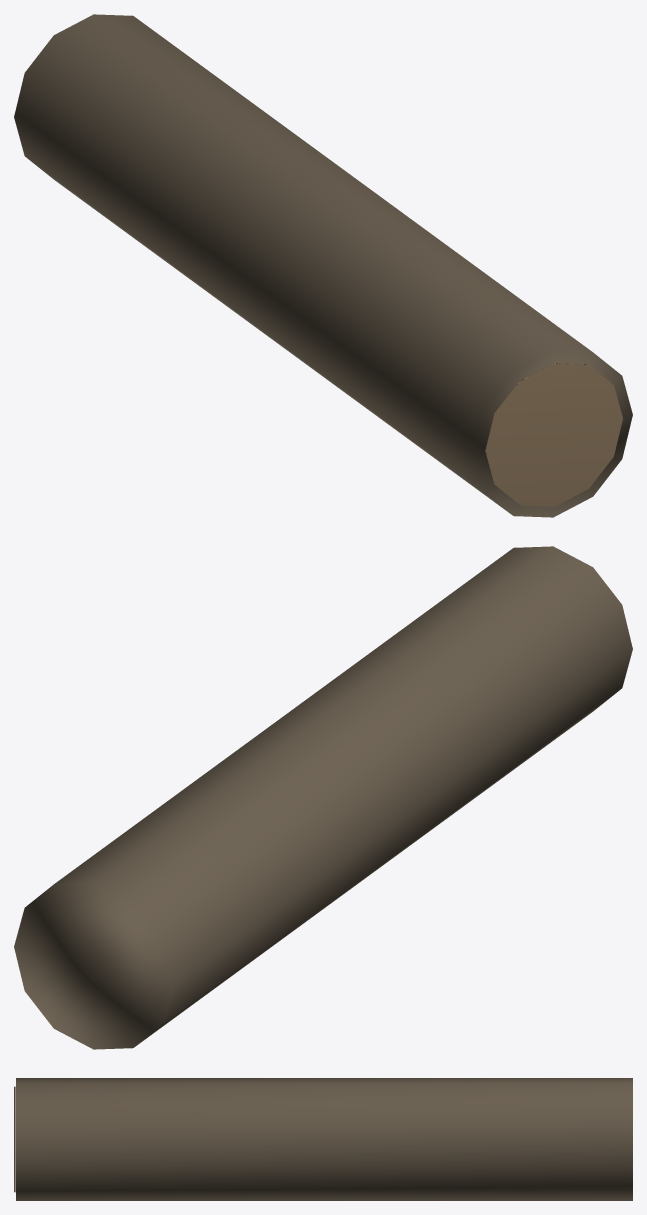
Rendered from log.glb.
3 renders of one model, top to bottom at view 1: azimuth 30°, elevation 25°; view 2: azimuth 150°, elevation 25°; view 3: azimuth 270°, elevation 25°, orthographic. The views are drawn at different scales.
Parts seen in each view (by area): view 1: bark, cut_face; view 2: bark; view 3: bark, cut_face.
Part boxes in pixels (box(x1,y1,x2,y2)): bark: box(14, 14, 632, 517); cut_face: box(485, 363, 622, 506); bark: box(14, 546, 632, 1049); bark: box(16, 1078, 632, 1200); cut_face: box(14, 1086, 15, 1192).
Bounding box in the file's own units: 0.56 × 0.56 × 2.81.
